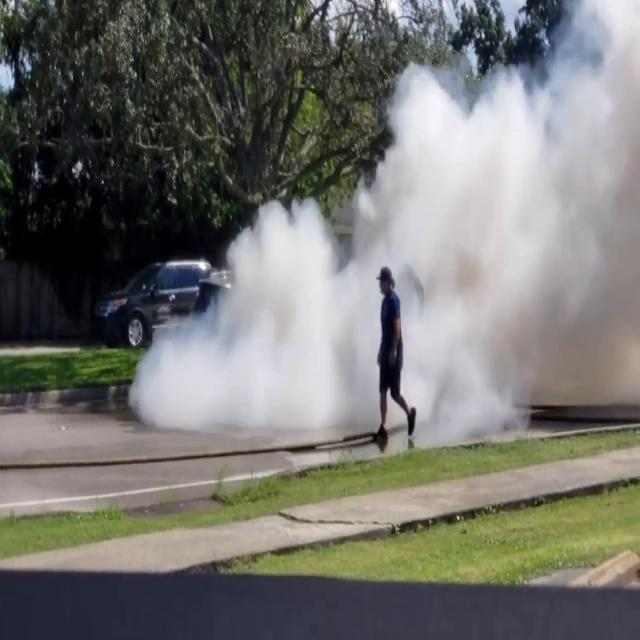Smoke: (136, 5, 640, 438), (340, 2, 640, 418)
